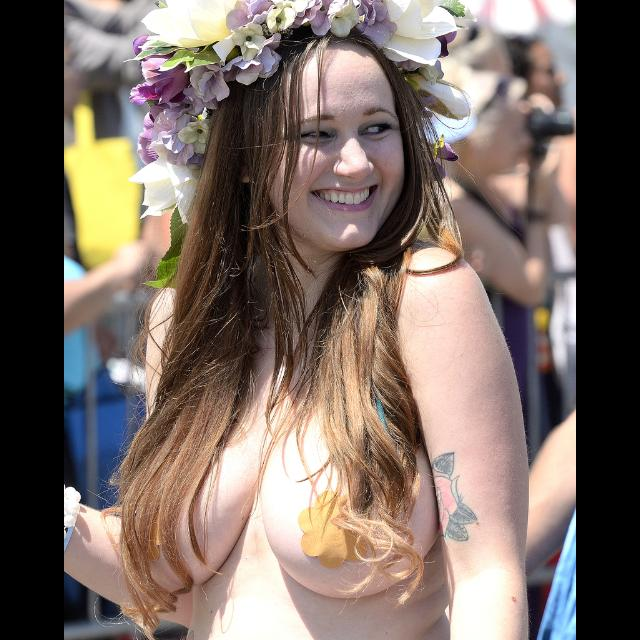Flower: (125, 1, 469, 226), (143, 24, 269, 140), (430, 472, 460, 538)
